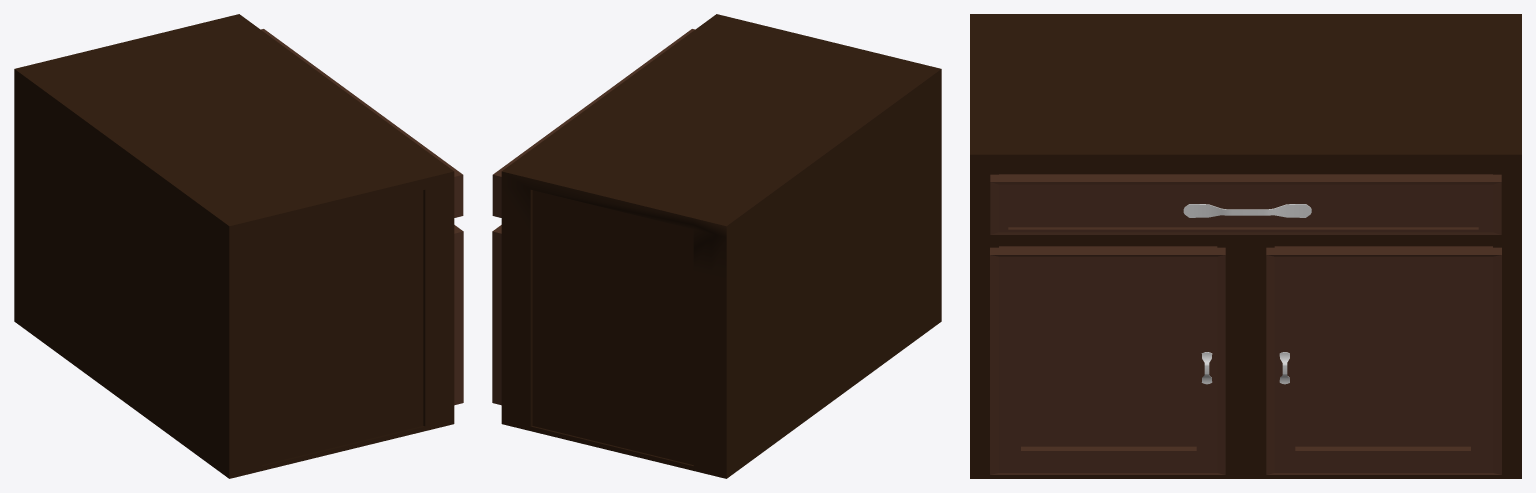
File: KitchenBaseCabinetDouble.fbx
3 views of the same model, side by side, from view 1: azimuth 30°, elevation 25°; view 2: azimuth 150°, elevation 25°; view 3: azimuth 270°, elevation 25° (orthographic). The views are drawn at different scales.
Parts seen in each view (by area): view 1: doublecabinet; view 2: doublecabinet; view 3: doublecabinet.
Boxes of the visible parts, left/top/right/bottom form: doublecabinet: left=14, top=14, right=463, bottom=478; doublecabinet: left=492, top=14, right=941, bottom=478; doublecabinet: left=970, top=14, right=1521, bottom=478.
Size of the model in its own units: 80.91 by 79.23 by 122.
